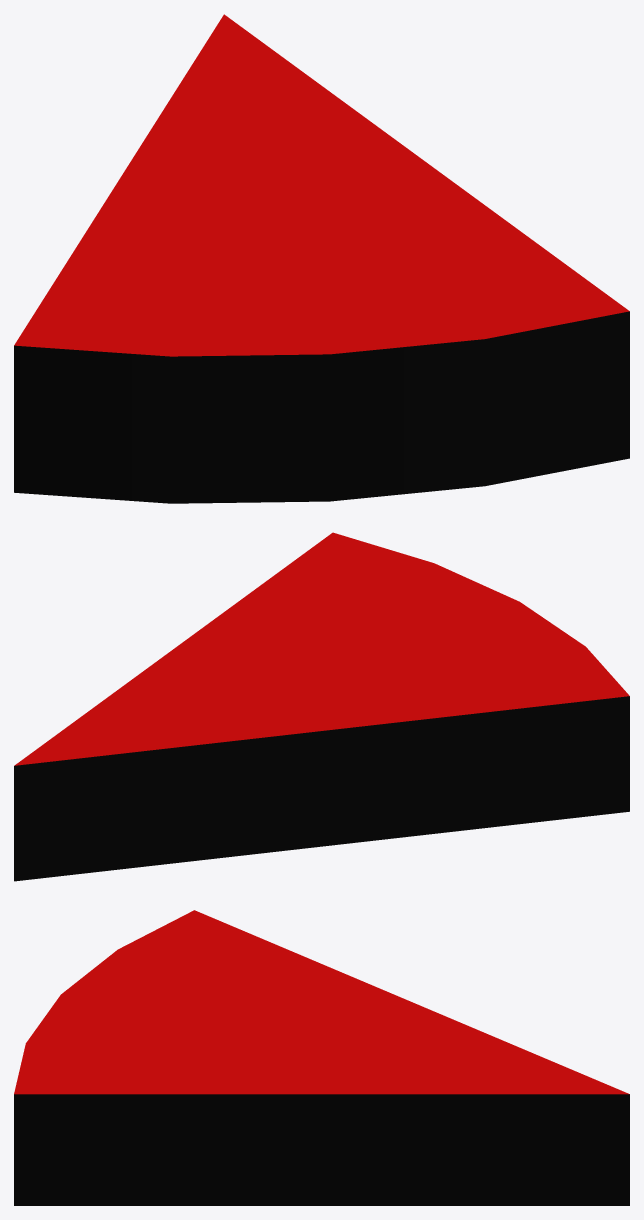
File: PlatformFlatPie_45Deg.fbx
3 renders of one model, top to bottom at view 1: azimuth 30°, elevation 25°; view 2: azimuth 150°, elevation 25°; view 3: azimuth 270°, elevation 25°, orthographic. The views are drawn at different scales.
Parts seen in each view (by area): view 1: PlatformFlatPie_45Deg; view 2: PlatformFlatPie_45Deg; view 3: PlatformFlatPie_45Deg.
Part boxes in pixels (x1=…): PlatformFlatPie_45Deg: x1=14, y1=14, x2=629, y2=503; PlatformFlatPie_45Deg: x1=14, y1=532, x2=629, y2=881; PlatformFlatPie_45Deg: x1=14, y1=910, x2=629, y2=1205.
Bounding box in the file's own units: 3.54 × 1 × 5.
